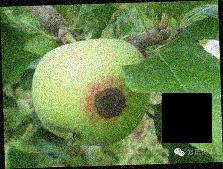rotten apple: (33, 37, 150, 145)
